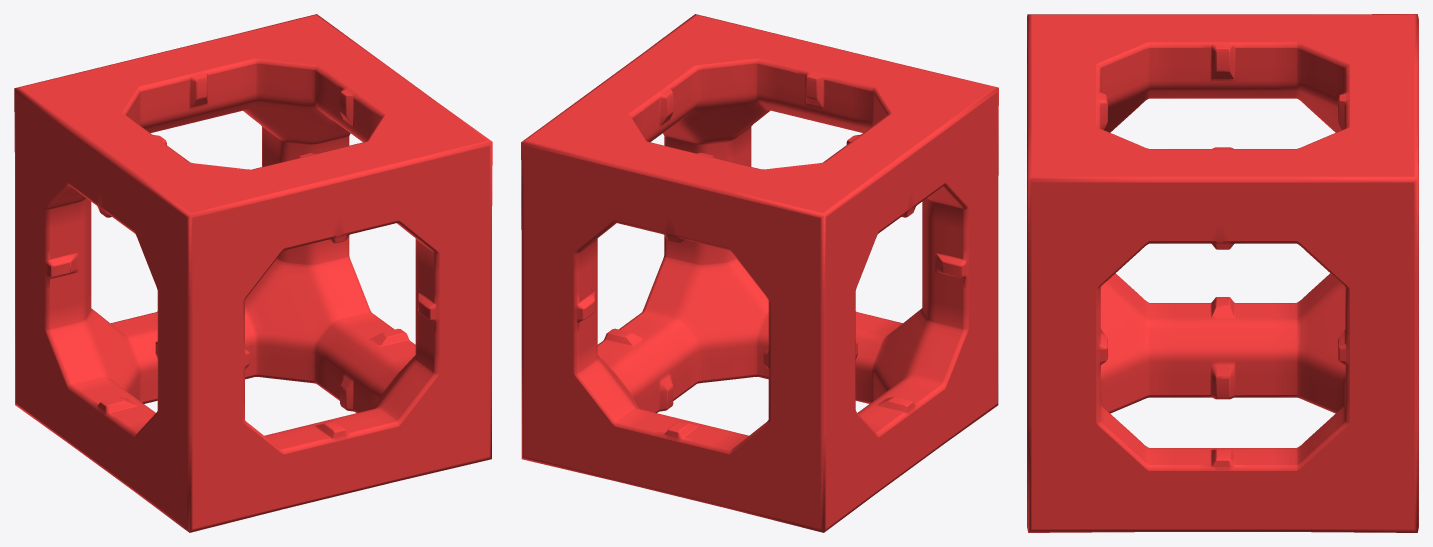
The model's file is TubeC.FBX.
3 views of the same model, side by side, from view 1: azimuth 30°, elevation 25°; view 2: azimuth 150°, elevation 25°; view 3: azimuth 270°, elevation 25° (orthographic). The views are drawn at different scales.
Parts seen in each view (by area): view 1: TubeCPartsA_v6_1; view 2: TubeCPartsA_v6_1; view 3: TubeCPartsA_v6_1.
Part boxes in pixels (bbox=[...]): TubeCPartsA_v6_1: bbox=[14, 14, 492, 532]; TubeCPartsA_v6_1: bbox=[521, 14, 998, 532]; TubeCPartsA_v6_1: bbox=[1027, 14, 1418, 532].
Size of the model in its own units: 1575 by 1575 by 1575.
